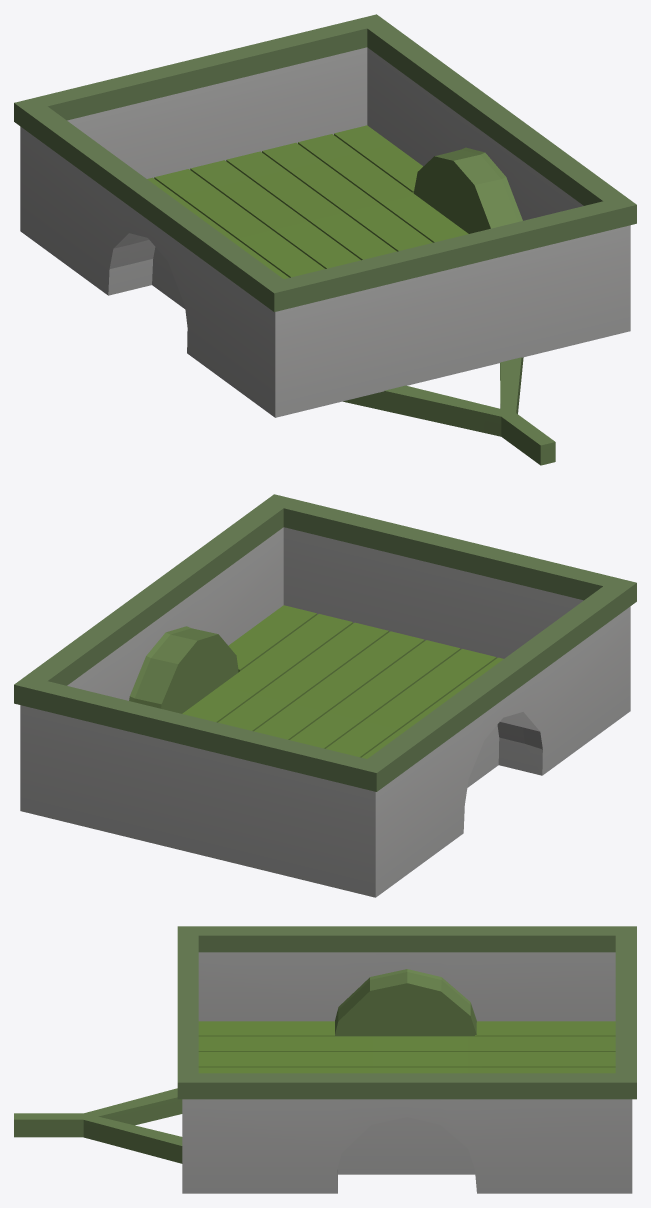
File: CarTrailer_02.fbx
3 renders of one model, top to bottom at view 1: azimuth 30°, elevation 25°; view 2: azimuth 150°, elevation 25°; view 3: azimuth 270°, elevation 25°, orthographic. The views are drawn at different scales.
Parts seen in each view (by area): view 1: CarTrailer_02; view 2: CarTrailer_02; view 3: CarTrailer_02.
Boxes of the visible parts, bbox=[...] form: CarTrailer_02: bbox=[14, 14, 636, 465]; CarTrailer_02: bbox=[14, 494, 636, 897]; CarTrailer_02: bbox=[14, 926, 636, 1193].
Size of the model in its own units: 1.64 by 0.6363 by 2.77.
